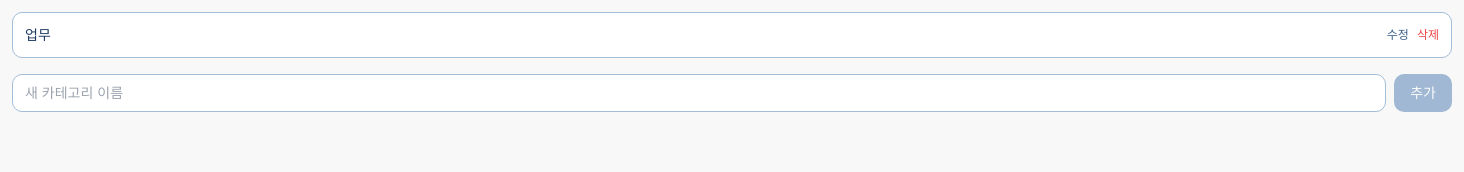
it: CategoryList › 카테고리 수정 › 기본 카테고리 수정 시 422 에러 메시지를 표시한다
Click the button "수정".
click(1398, 35)  # box [1387,27,1409,43]
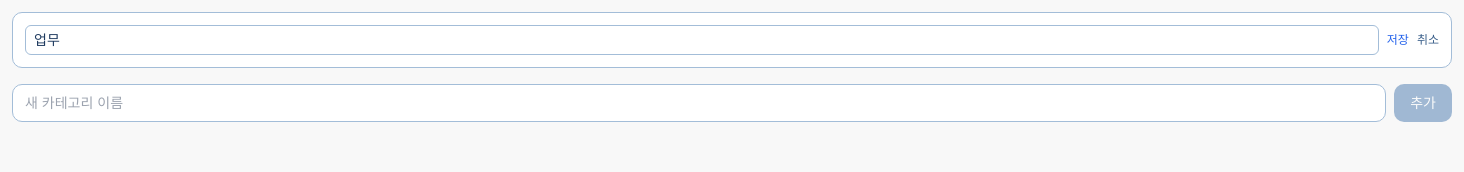
Click the button "저장".
click(1398, 40)  # box [1387,32,1409,48]
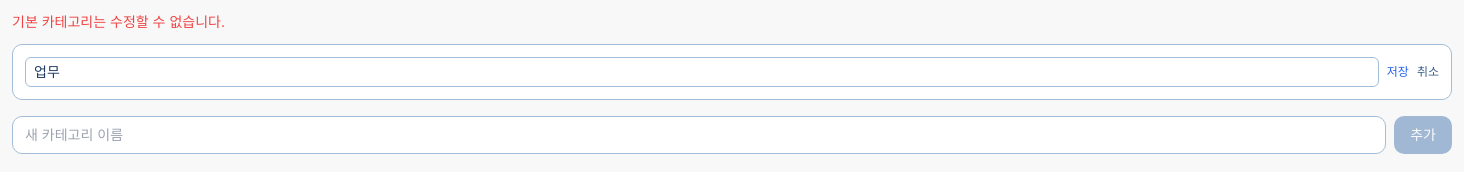
Expected: the message reads "기본 카테고리는 수정할 수 없습니다.", [12,13,225,30]
